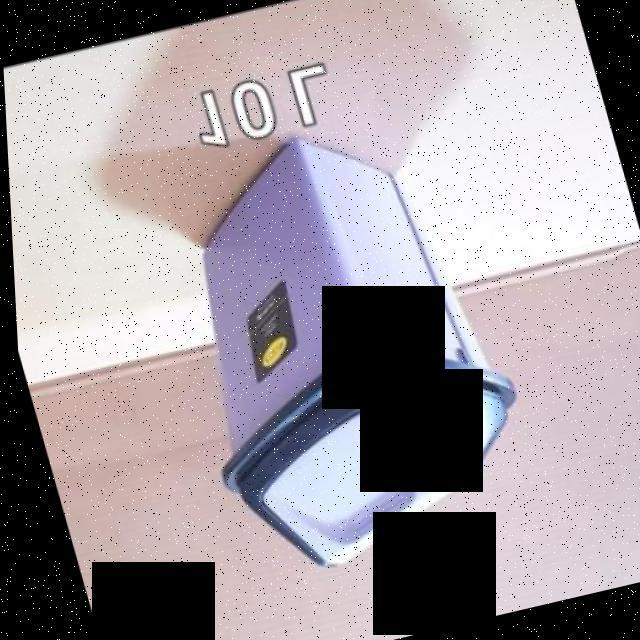bin: (117, 94, 565, 600)
